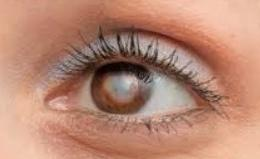eye: (91, 60, 152, 115)
